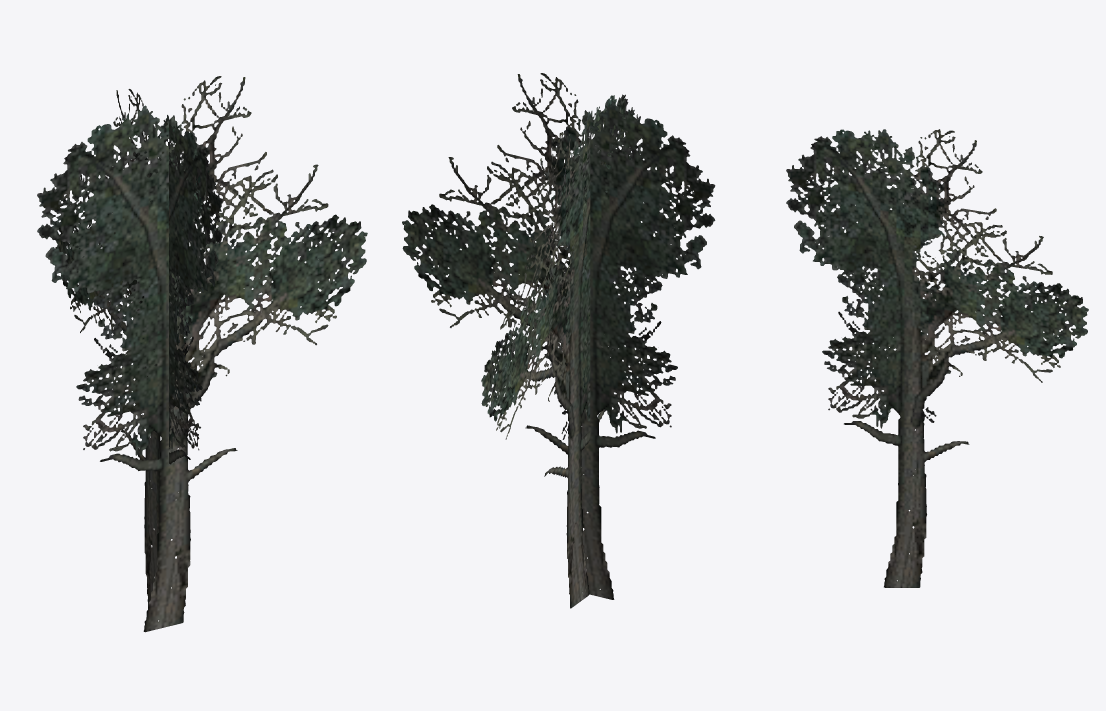
The model's file is ever_torreypinetree_a2_l2.fbx.
3 renders of one model, left to right at view 1: azimuth 30°, elevation 25°; view 2: azimuth 150°, elevation 25°; view 3: azimuth 270°, elevation 25°, orthographic. The views are drawn at different scales.
Visible parts, largest first — view 1: mesh_node; view 2: mesh_node; view 3: mesh_node.
Part boxes in pixels (box(x1,y1,x2,y2)): mesh_node: box(37, 76, 367, 632); mesh_node: box(402, 73, 715, 608); mesh_node: box(786, 129, 1088, 587).
Size of the model in its own units: 3.6 by 5.67 by 3.17.
Materials: 1 (1 with a texture image).
